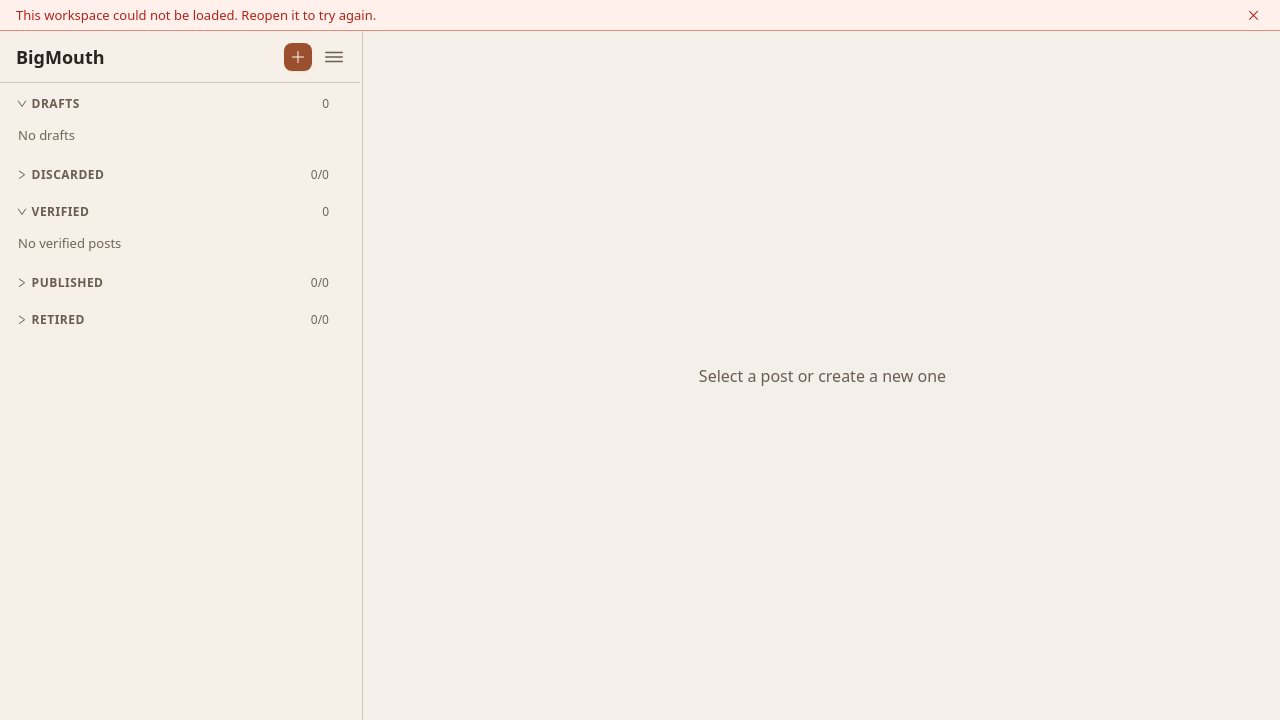
Test: WorkspaceSession initial load › surfaces a load failure in the toolbar and dismisses it
The image size is (1280, 720).
Expected: the text "This workspace could not be loaded. Reopen it to try again." is shown, top-left (16, 6), bottom-right (376, 24)
Click the button with class "toolbar-error-dismiss" at (1253, 15), box top-left (1242, 4), bottom-right (1264, 26)
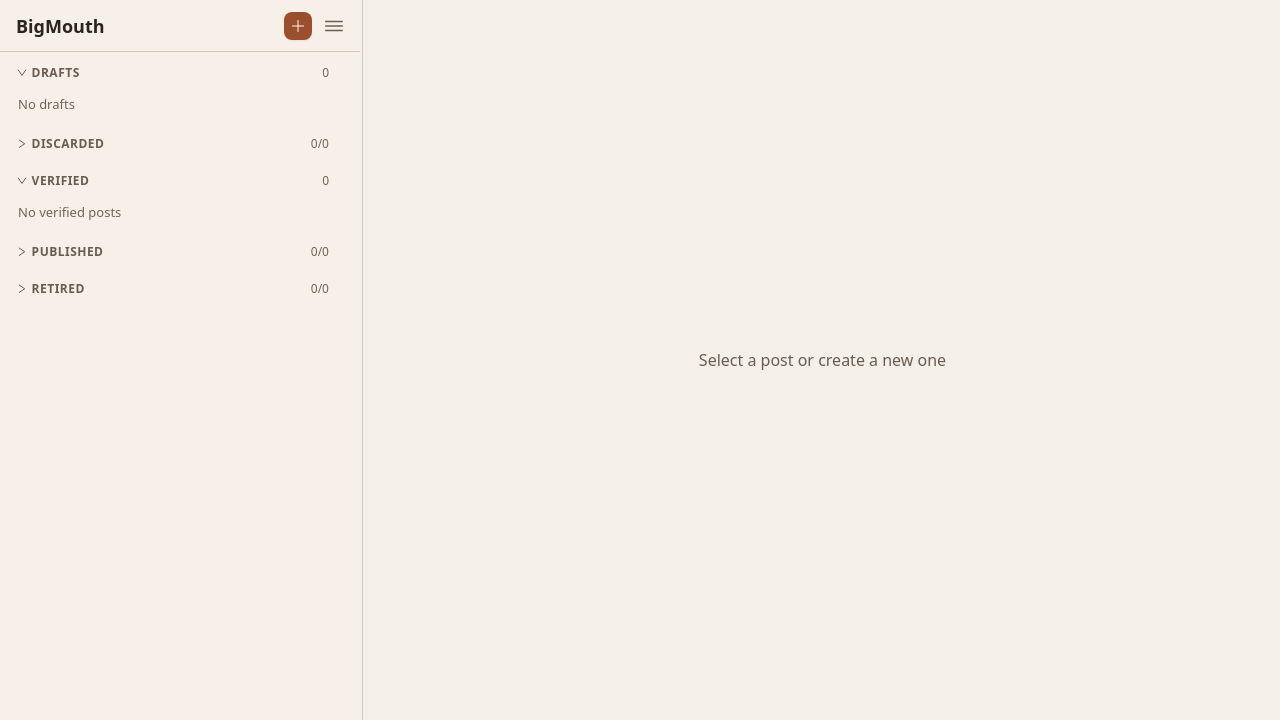
Expected: the text "This workspace could not be loaded. Reopen it to try again." is gone
